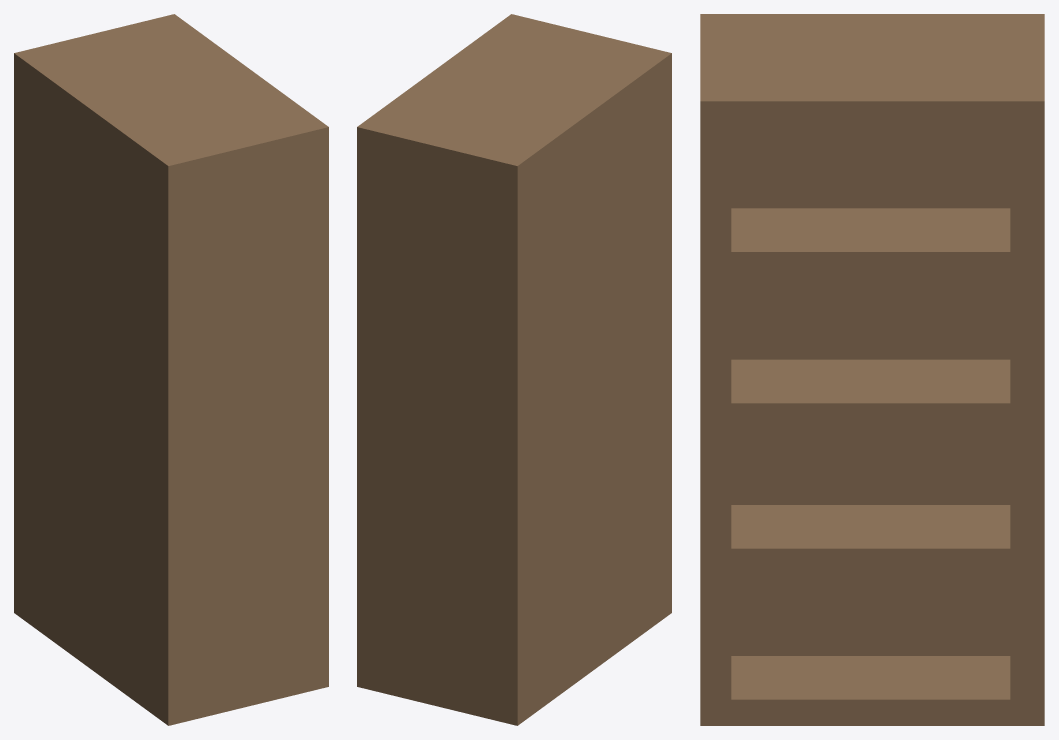
File: Bookcase.fbx
3 renders of one model, left to right at view 1: azimuth 30°, elevation 25°; view 2: azimuth 150°, elevation 25°; view 3: azimuth 270°, elevation 25°, orthographic. The views are drawn at different scales.
Parts seen in each view (by area): view 1: Bookcase; view 2: Bookcase; view 3: Bookcase.
Part boxes in pixels (<box>): Bookcase: <box>14,14,328,725</box>; Bookcase: <box>357,14,671,725</box>; Bookcase: <box>700,14,1044,725</box>.
Bounding box in the file's own units: 60 × 200 × 100.
